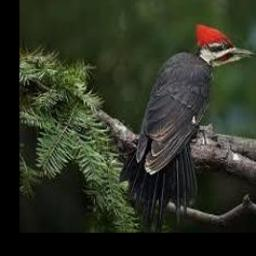Woodpecker: (121, 21, 256, 232)
